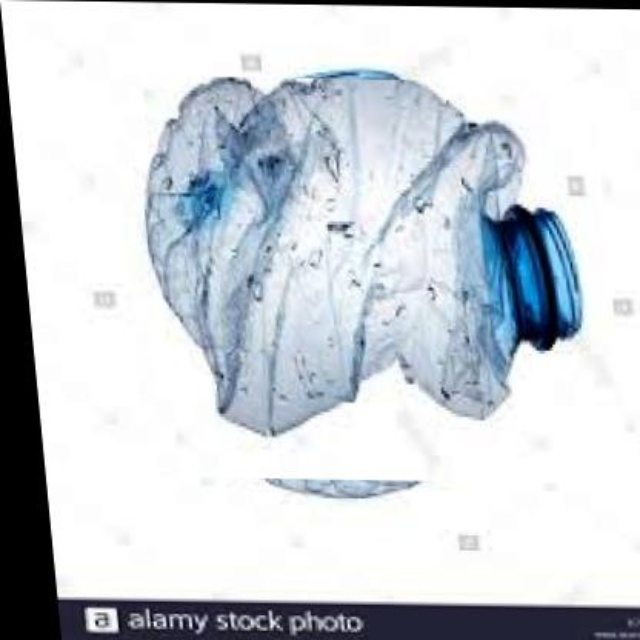trash: (146, 71, 580, 432)
